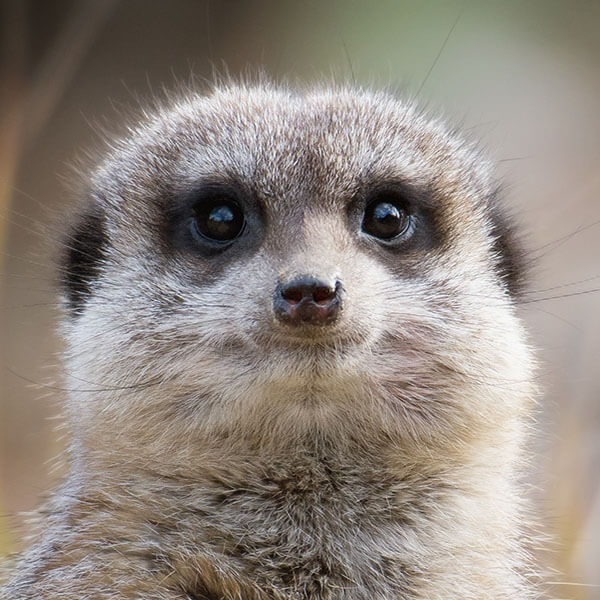meerkat: (42, 56, 547, 600)
